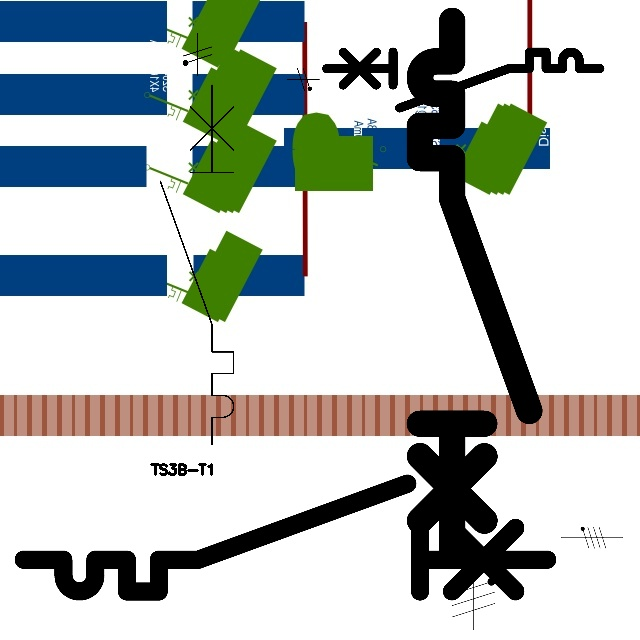interruptor_termomagnetico: (406, 7, 543, 567), (10, 470, 561, 605), (151, 75, 243, 453), (319, 45, 607, 115)
